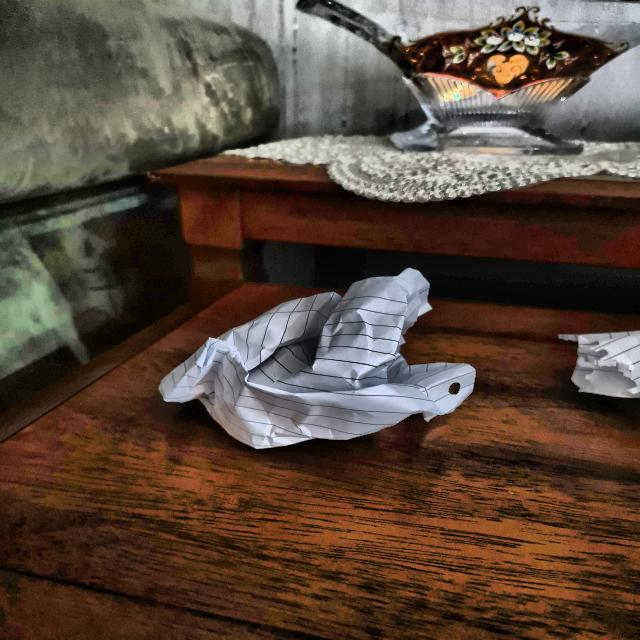Paper: (159, 269, 477, 448)
